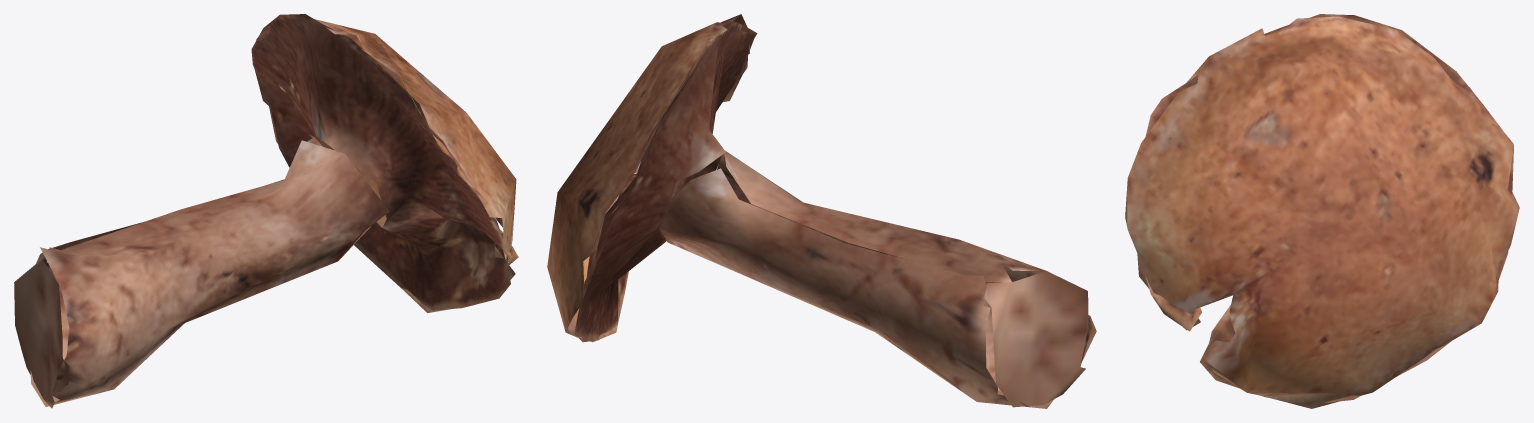
Rendered from 10_ING_mushroom_porcini.glb.
3 renders of one model, left to right at view 1: azimuth 30°, elevation 25°; view 2: azimuth 150°, elevation 25°; view 3: azimuth 270°, elevation 25°, orthographic. The views are drawn at different scales.
Parts seen in each view (by area): view 1: 10_ING_mushroom_porcini; view 2: 10_ING_mushroom_porcini; view 3: 10_ING_mushroom_porcini.
Part boxes in pixels (x1=…): 10_ING_mushroom_porcini: x1=14, y1=14, x2=518, y2=408; 10_ING_mushroom_porcini: x1=547, y1=14, x2=1096, y2=408; 10_ING_mushroom_porcini: x1=1125, y1=14, x2=1519, y2=408.
Bounding box in the file's own units: 0.0984 × 0.0624 × 0.0655.
1 material, 1 textured.
